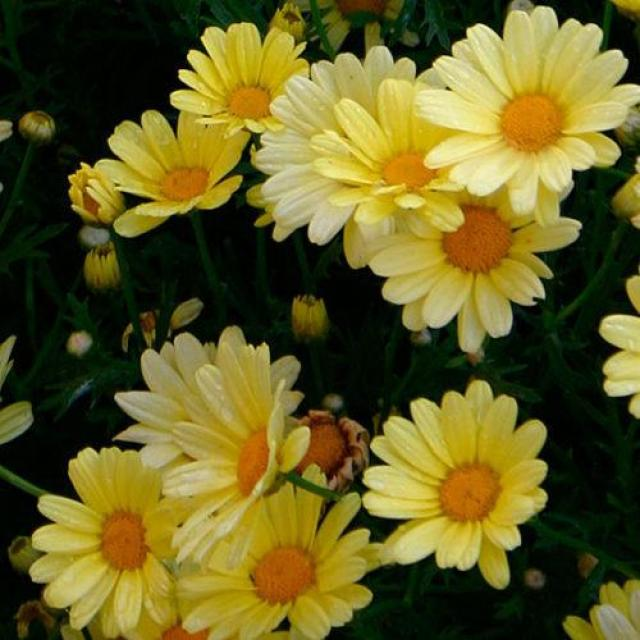organic waste: (369, 108, 568, 353), (257, 47, 464, 255), (357, 376, 561, 575), (118, 328, 304, 545), (419, 7, 625, 197), (13, 426, 196, 630), (177, 479, 380, 626), (75, 111, 242, 226), (175, 20, 315, 141)
